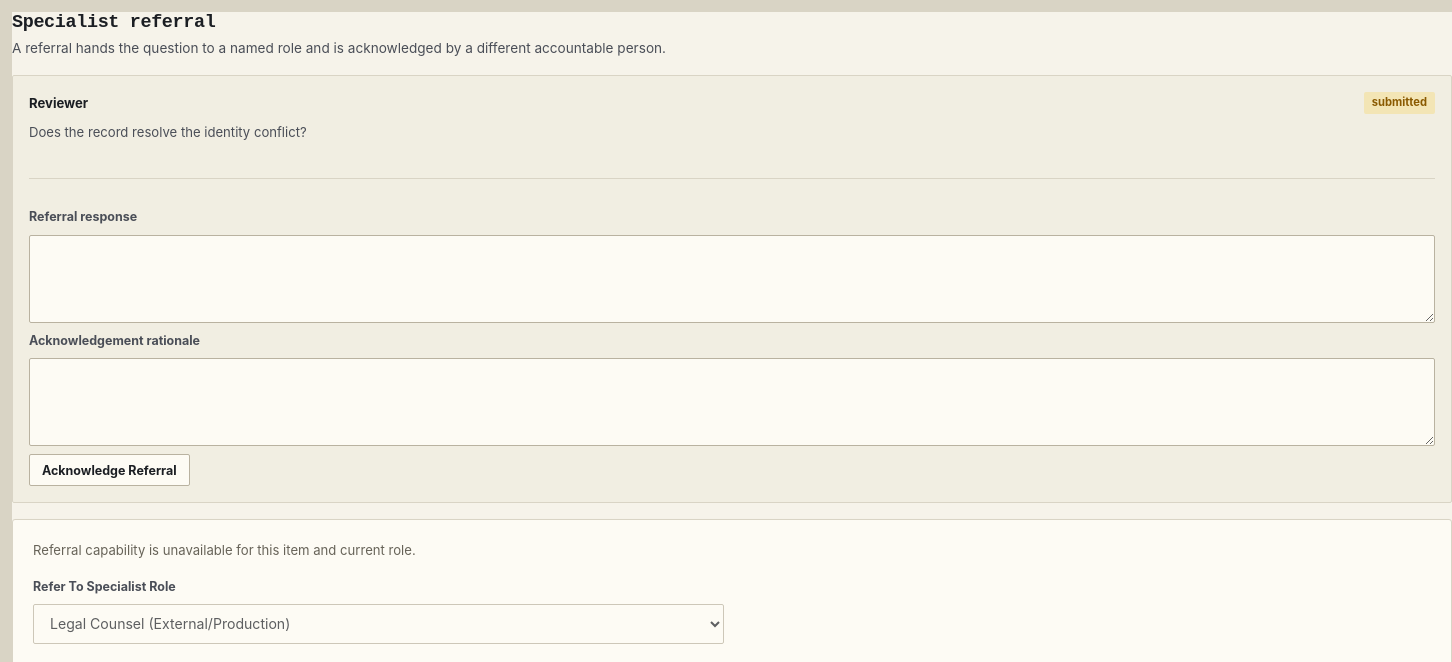
Test case: ReferralCard authoritative acknowledgement › preserves acknowledgement inputs when the persisted command is rejected
In the text box labelled "Referral response": (732, 279) [29, 235, 1435, 323], type "The source identifies a different entity."
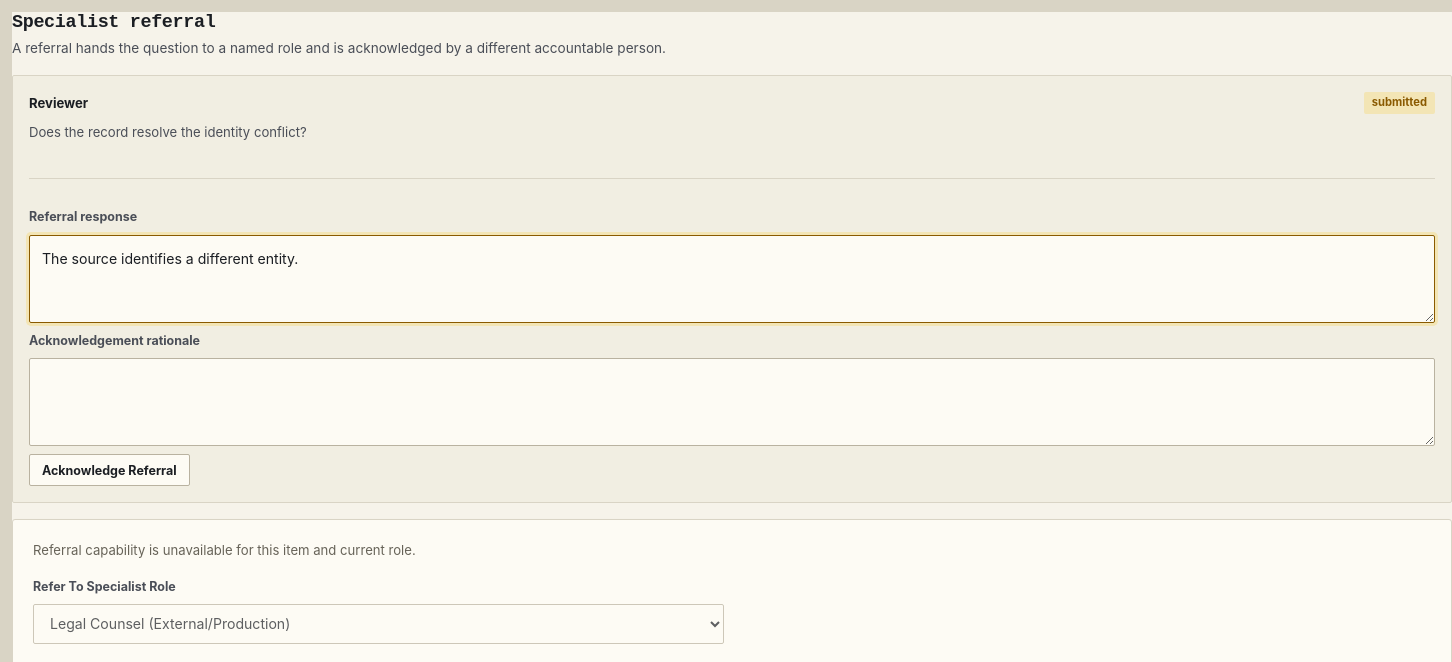
In the text box labelled "Acknowledgement rationale": (732, 402) [29, 358, 1435, 446], type "The conflict must remain unresolved."
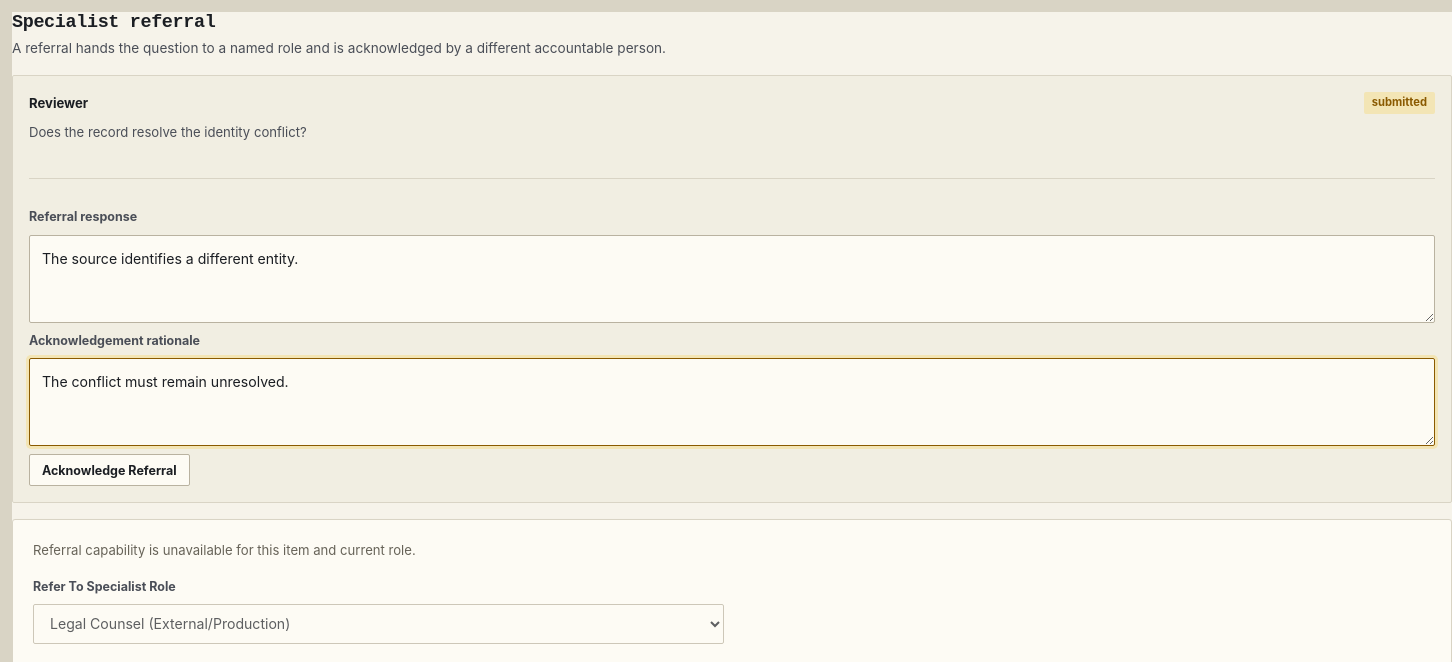
Click the button "Acknowledge Referral": (109, 470) [29, 454, 190, 486]
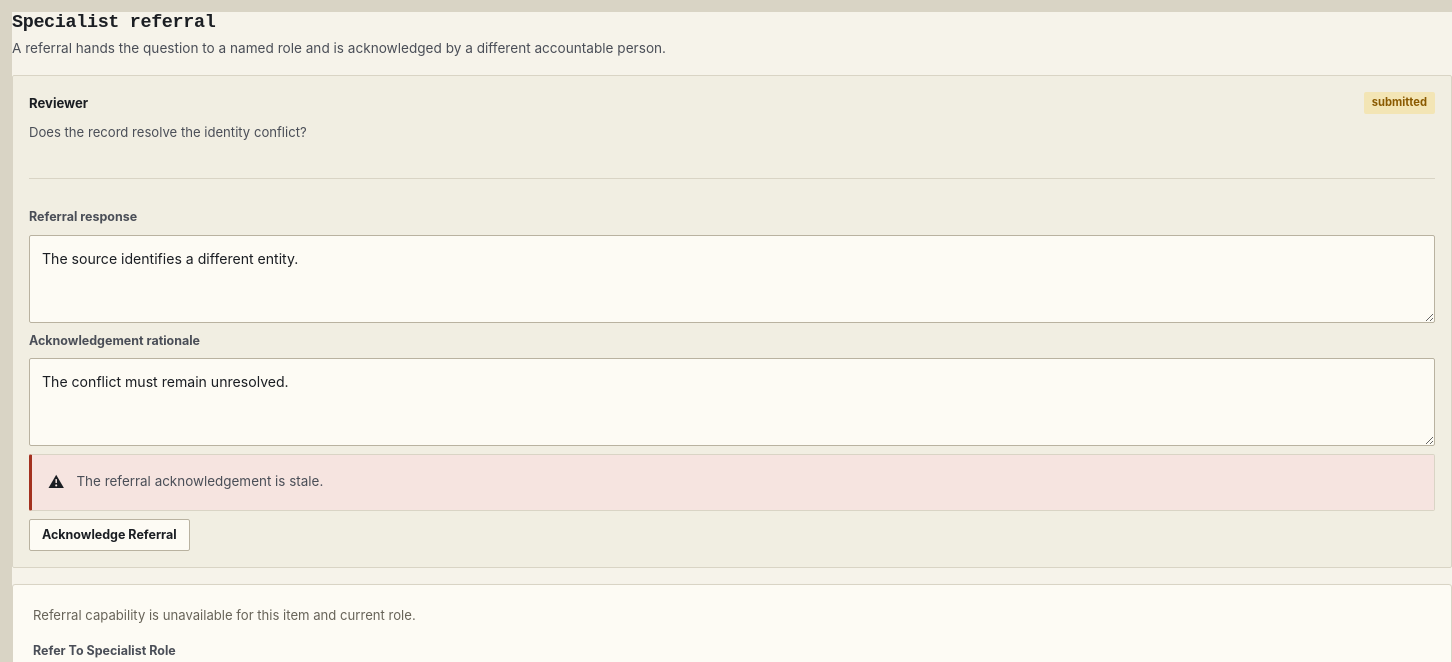
Now the message shows "stale", box [76, 473, 323, 489]
